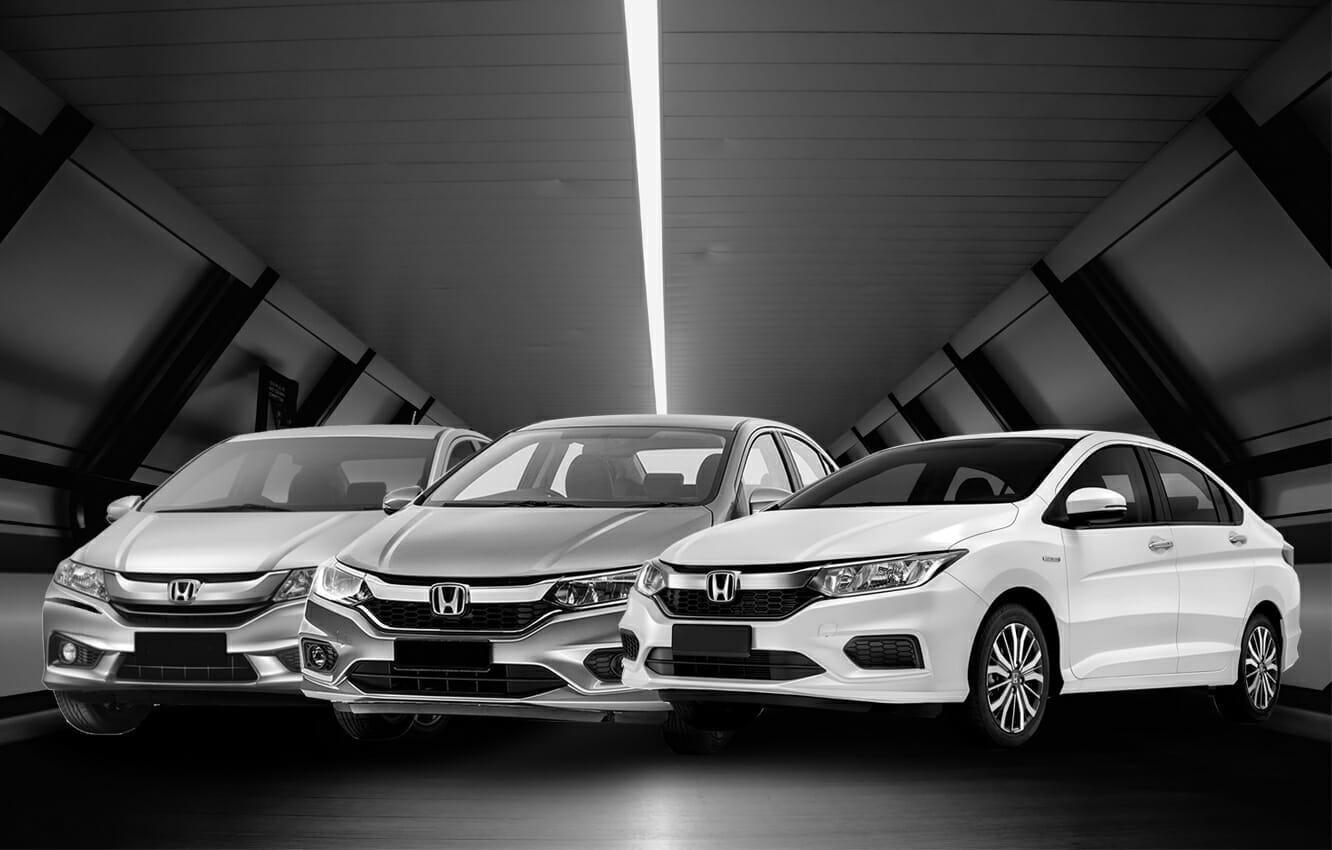Car hood: (327, 502, 717, 579), (654, 498, 1031, 571), (72, 502, 383, 577)
Fender - -R-L-: (1240, 504, 1302, 651)
Front bumper: (296, 593, 684, 719), (614, 595, 990, 710), (34, 589, 314, 704)
Headlight - -L-: (797, 544, 978, 604), (540, 560, 648, 620), (267, 547, 319, 610)
Headlight - -R-: (45, 545, 116, 613), (309, 551, 378, 610), (630, 550, 683, 599)
Passenger-s door - -F-L-: (1059, 429, 1180, 680)
Passenger-s door - -R-L-: (1169, 445, 1270, 677)
Rear bumper: (1284, 596, 1310, 677)
Rear light - -L-: (1267, 519, 1310, 574)
Side bumper - -L-: (1052, 662, 1258, 698)
Side mirror - -L-: (1052, 480, 1137, 540), (735, 480, 798, 518)
Side mirror - -R-: (372, 480, 437, 522), (100, 489, 152, 528)
